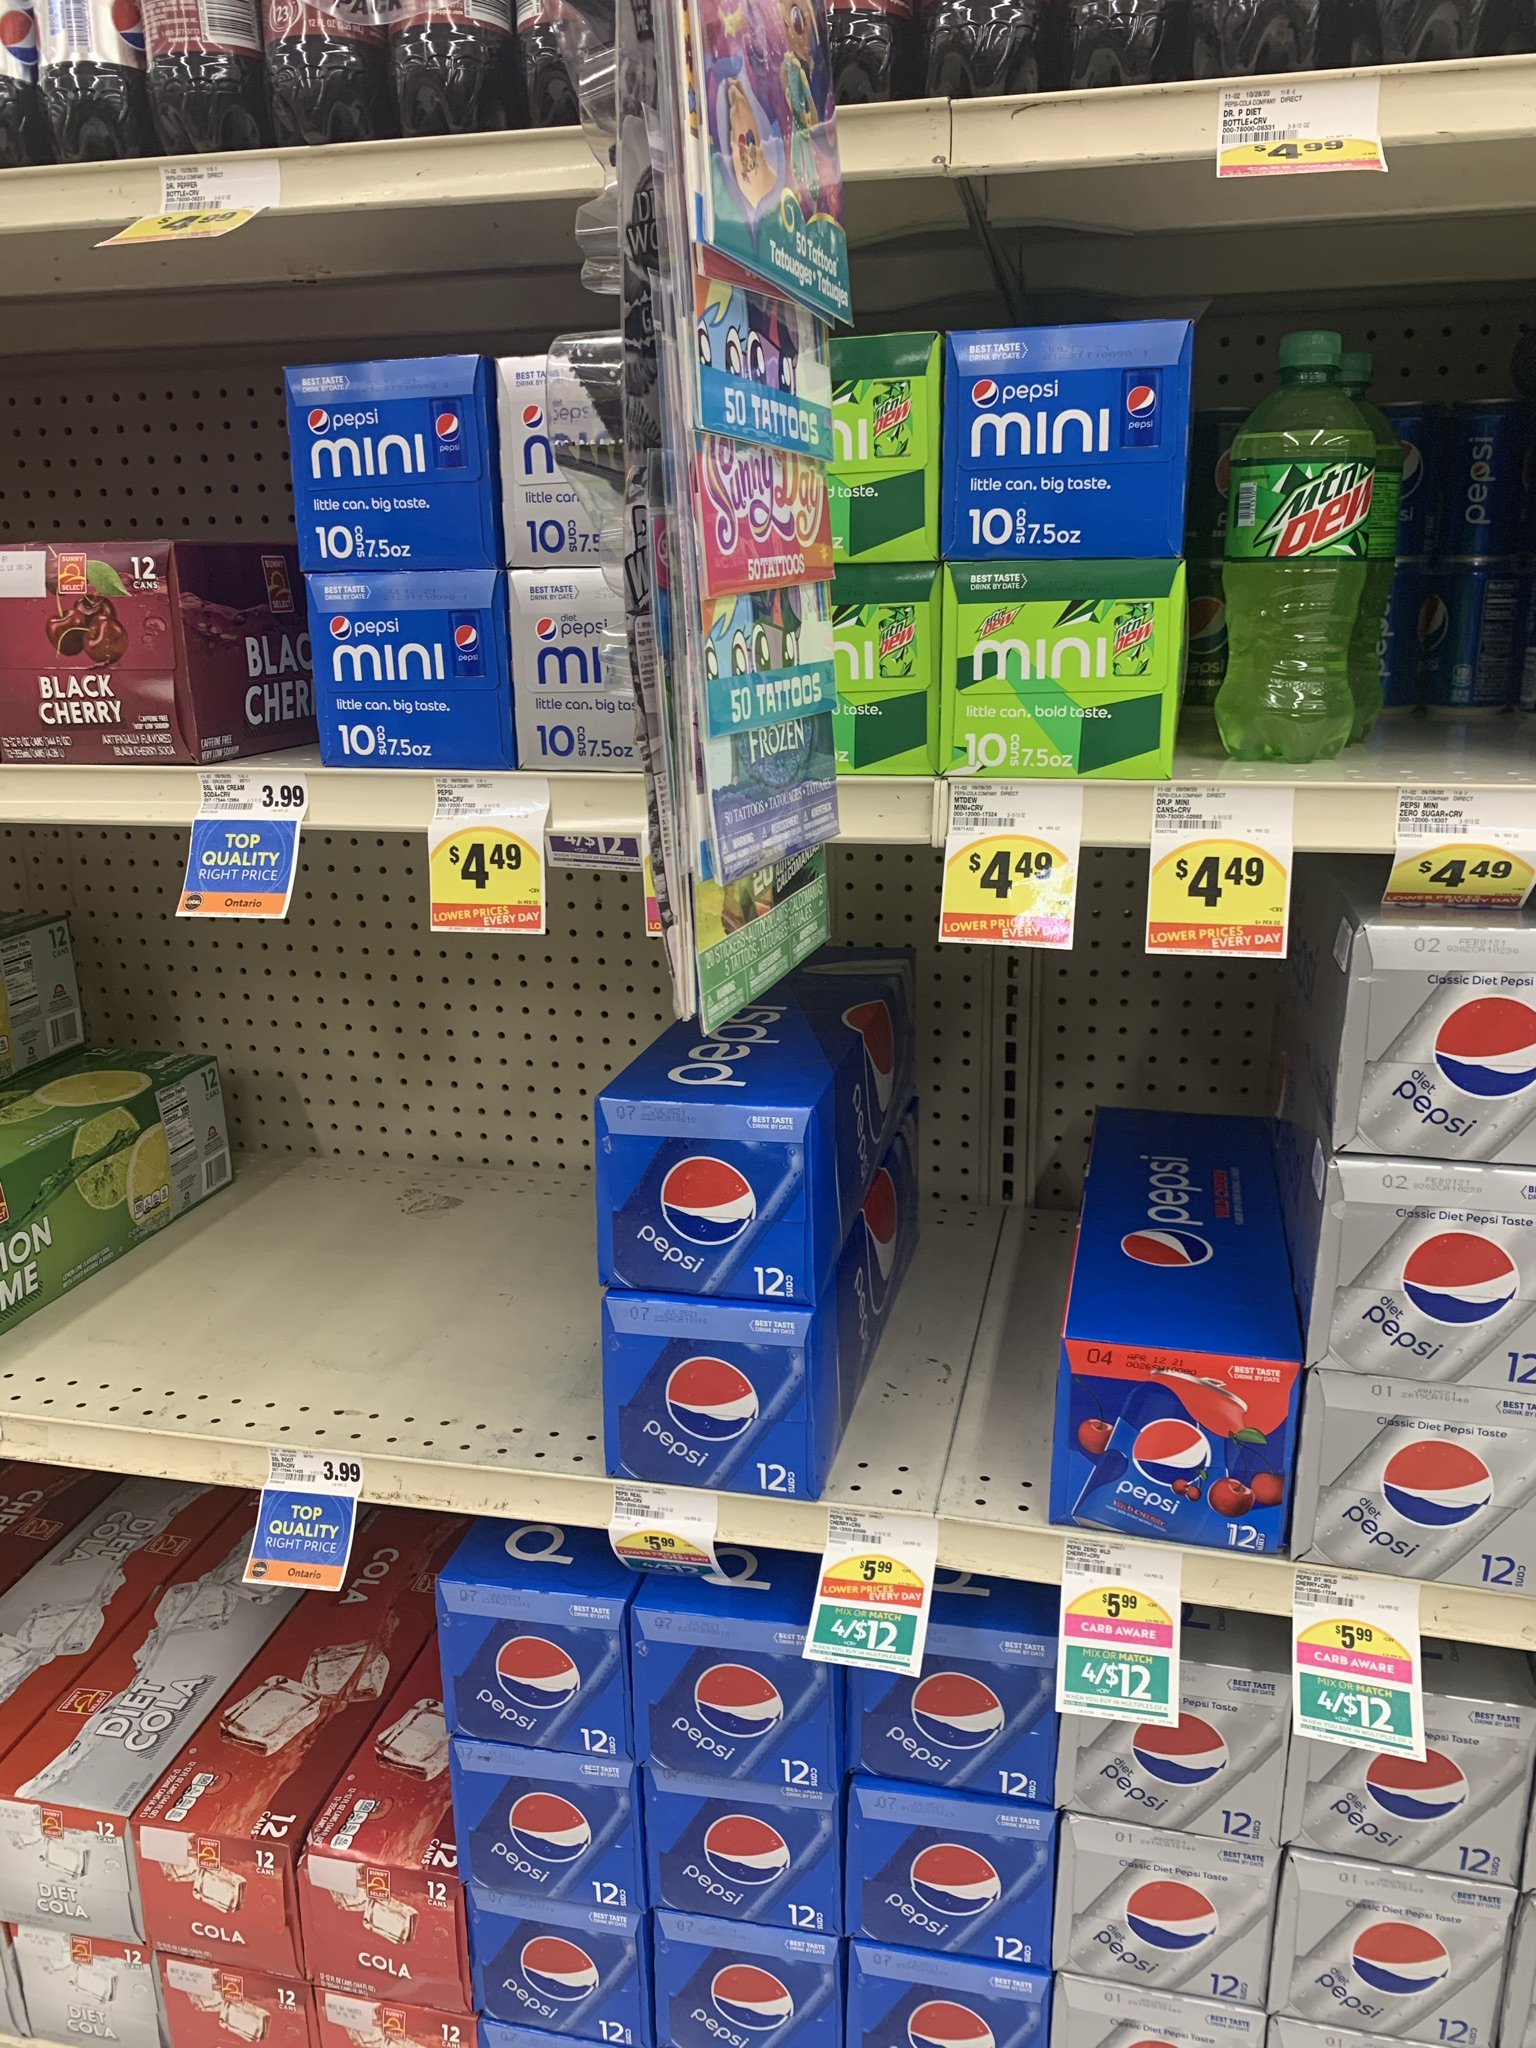box: (1060, 1637, 1276, 1842), (1320, 1679, 1520, 1888), (294, 373, 499, 572), (960, 340, 1162, 542), (1073, 1351, 1270, 1558), (615, 1106, 820, 1300), (1066, 1819, 1267, 2006), (2, 552, 184, 756), (1346, 1184, 1536, 1376), (1363, 943, 1536, 1153), (608, 1305, 799, 1493), (1333, 1408, 1536, 1584), (1299, 1858, 1484, 2048), (641, 1621, 836, 1796), (963, 593, 1160, 766), (863, 1638, 1042, 1816), (453, 1574, 624, 1759), (644, 1788, 841, 1940), (463, 1759, 644, 1922), (319, 593, 490, 764), (471, 1917, 652, 2042), (649, 1942, 836, 2048), (145, 1838, 290, 1959), (318, 1859, 449, 1988), (2, 1827, 123, 1921)
